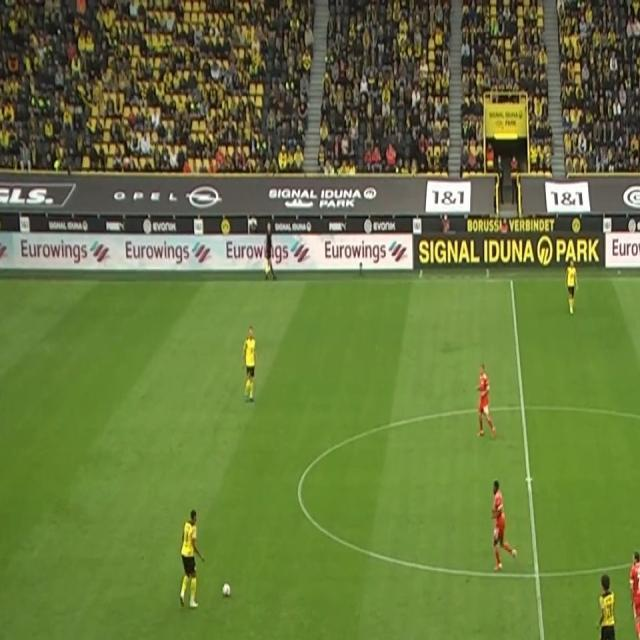ball: (220, 582, 232, 600)
